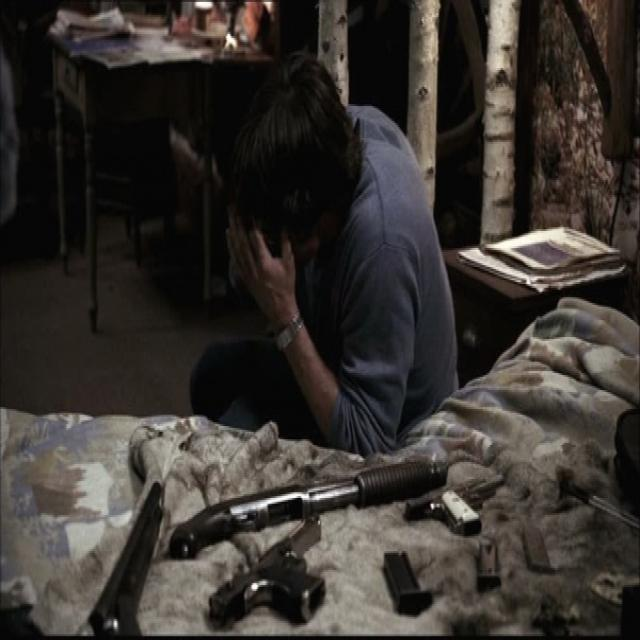rifle: (171, 451, 453, 558)
